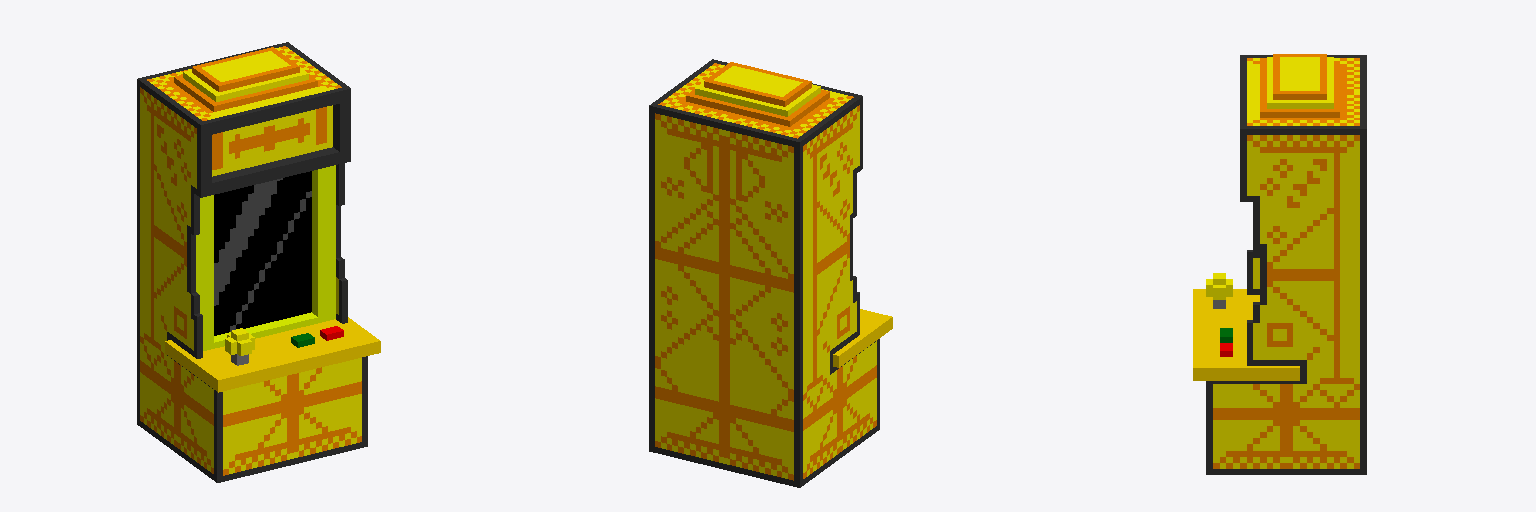
3 renders of one model, left to right at view 1: azimuth 30°, elevation 25°; view 2: azimuth 150°, elevation 25°; view 3: azimuth 270°, elevation 25°, orthographic.
Parts seen in each view (by area): view 1: object 1; view 2: object 1; view 3: object 1.
Part boxes in pixels (x1,y1,x2,y2): object 1: (137, 42, 380, 482); object 1: (649, 59, 892, 487); object 1: (1193, 54, 1366, 474).
Bounding box in the file's own units: 2.8 × 6 × 2.6.
1 materials, 1 textured.